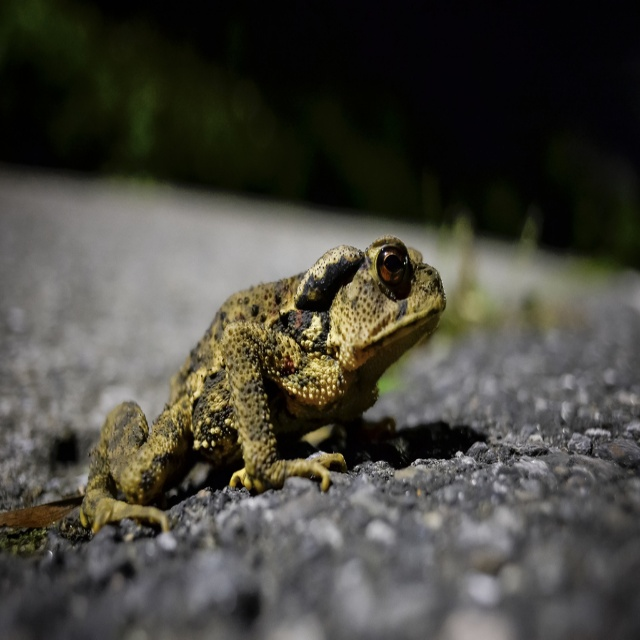Frog: (77, 238, 448, 537)
